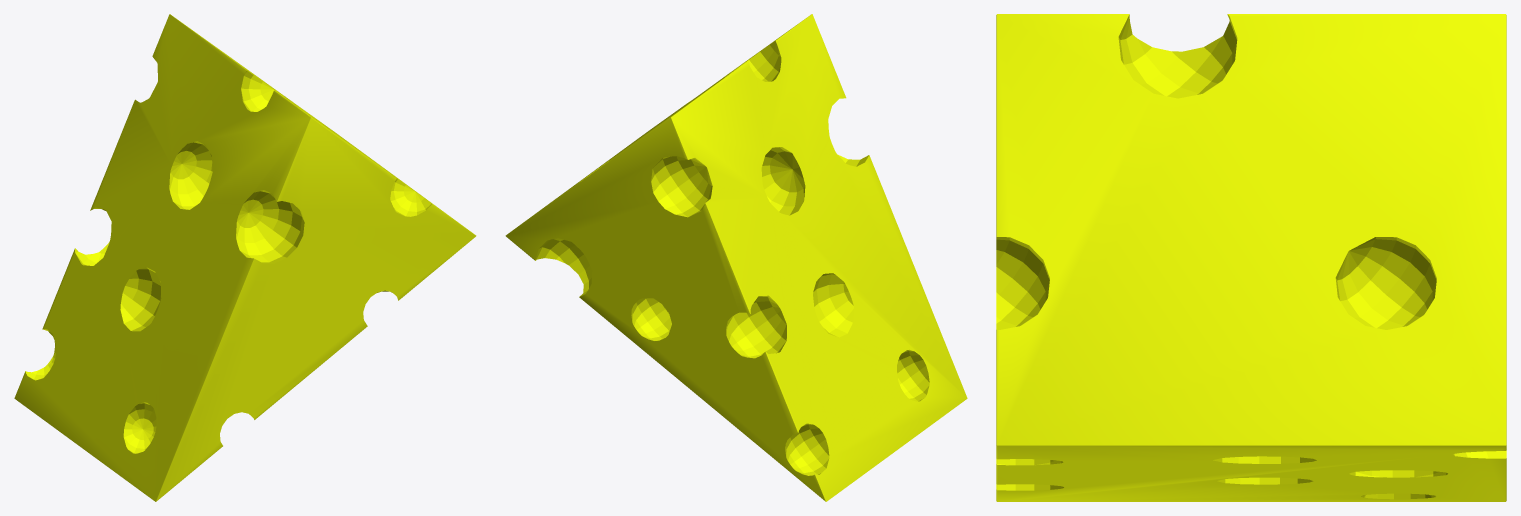
The model's file is cheese.glb.
The picture shows the model from 3 angles, left to right: view 1: azimuth 30°, elevation 25°; view 2: azimuth 150°, elevation 25°; view 3: azimuth 270°, elevation 25°; orthographic projection. The views are drawn at different scales.
Parts seen in each view (by area): view 1: node-0; view 2: node-0; view 3: node-0.
Part boxes in pixels (box(x1,y1,x2,y2)): node-0: box(14, 14, 476, 501); node-0: box(505, 14, 967, 501); node-0: box(996, 14, 1506, 501).
Size of the model in its own units: 6.47 by 6.68 by 4.95.
